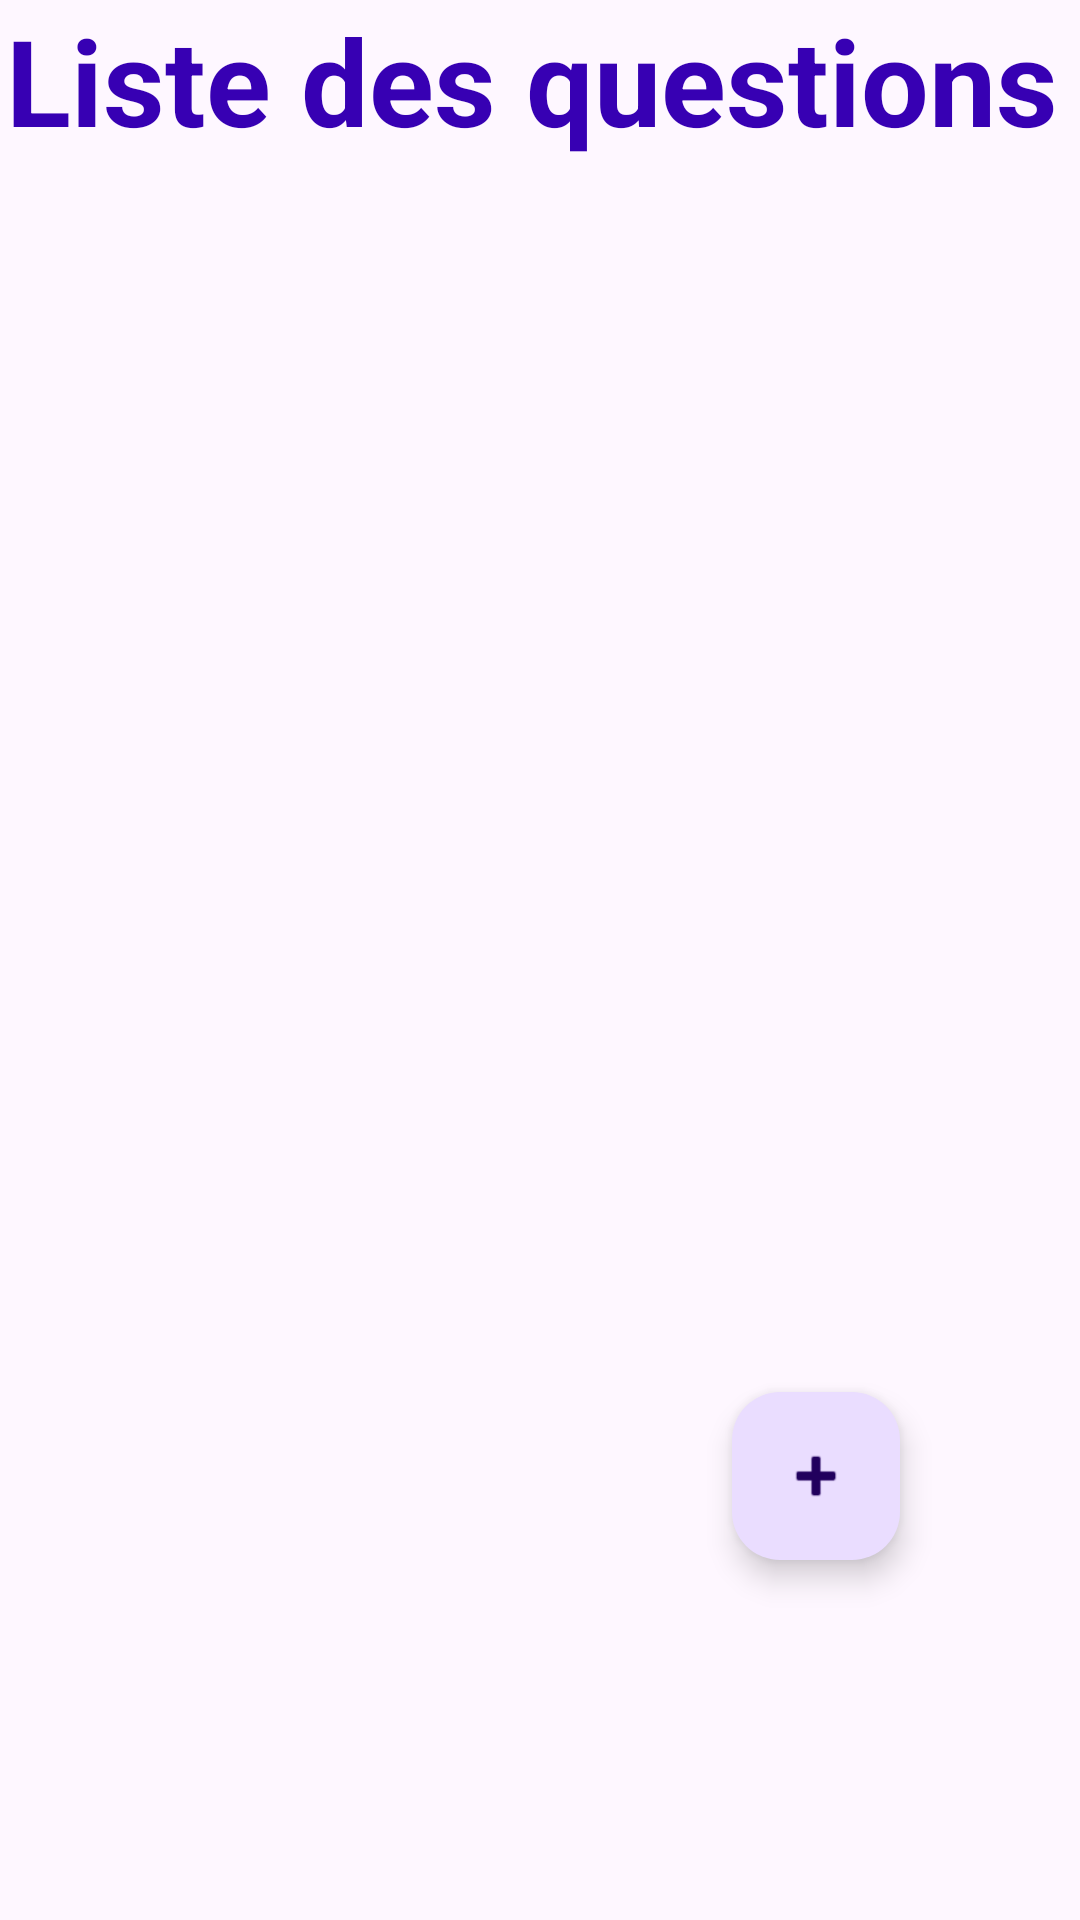

Named icons in this screenshot (1080px x 1920px) and their bounding boxes, (x1,y1,x2,y2):
add: (732,1392,900,1560)
